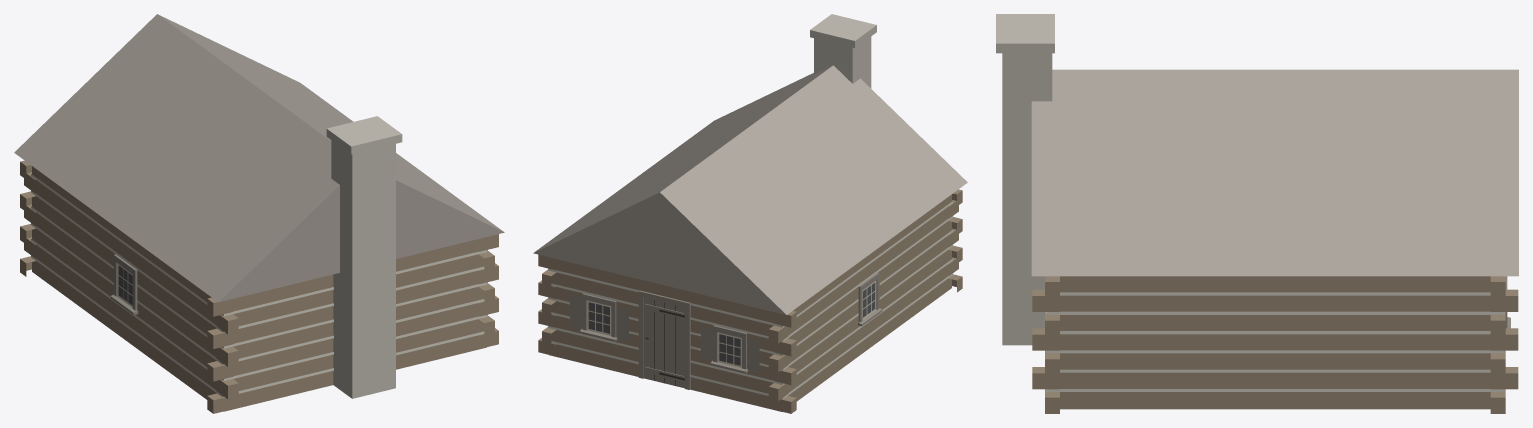
The model's file is recon_1835_blk_south_water_clark_d1_04__inferred_1835.glb.
3 views of the same model, side by side, from view 1: azimuth 30°, elevation 25°; view 2: azimuth 150°, elevation 25°; view 3: azimuth 270°, elevation 25° (orthographic). The views are drawn at different scales.
Visible parts, largest first — view 1: recon_1835_blk_south_water_clark_d1_04__inferred_1835; view 2: recon_1835_blk_south_water_clark_d1_04__inferred_1835; view 3: recon_1835_blk_south_water_clark_d1_04__inferred_1835.
Boxes of the visible parts, <box> form: recon_1835_blk_south_water_clark_d1_04__inferred_1835: <box>14,14,504,413</box>; recon_1835_blk_south_water_clark_d1_04__inferred_1835: <box>533,14,967,413</box>; recon_1835_blk_south_water_clark_d1_04__inferred_1835: <box>996,14,1518,413</box>.
Size of the model in its own units: 6.29 by 5.35 by 8.35.
